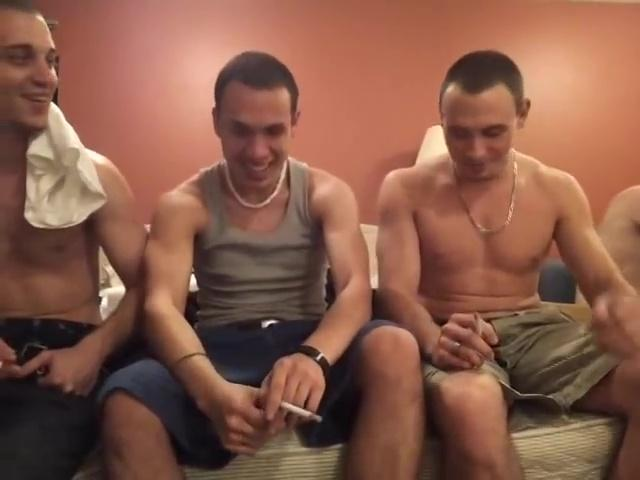cigarette: (278, 399, 326, 425), (471, 310, 486, 340)
